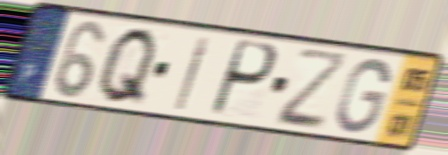6: (50, 17, 108, 102)
G: (333, 56, 393, 137)
I: (171, 33, 214, 113)
P: (206, 37, 281, 120)
Q: (94, 25, 161, 110)
Z: (274, 46, 351, 133)
